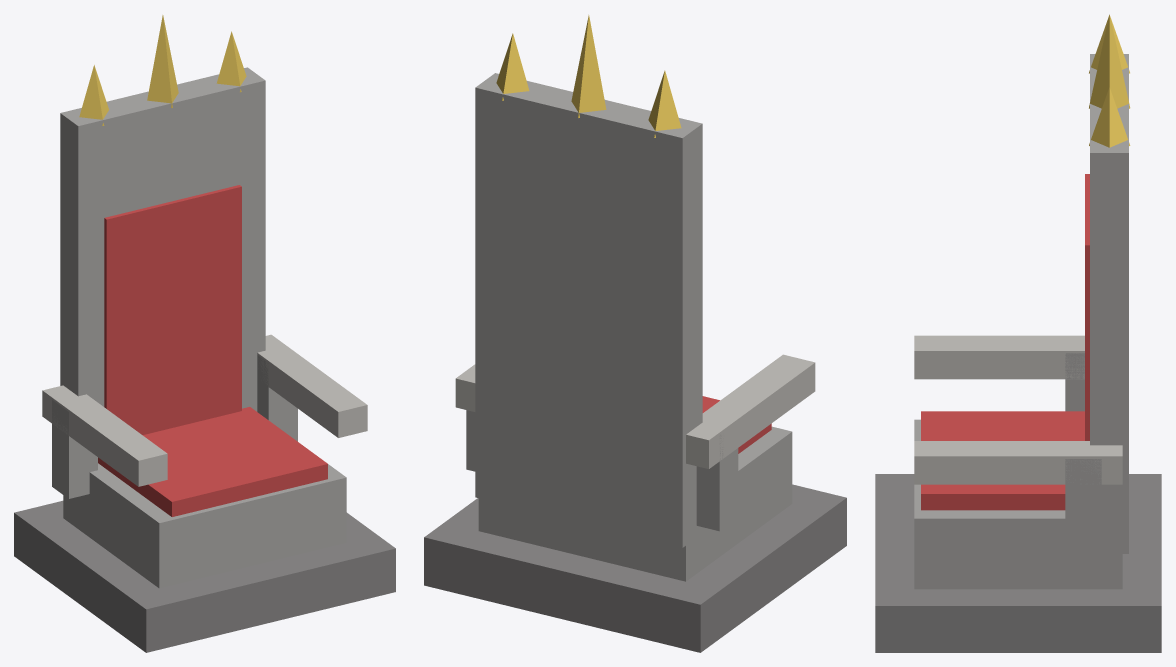
The model's file is SM_Throne.glb.
3 renders of one model, left to right at view 1: azimuth 30°, elevation 25°; view 2: azimuth 150°, elevation 25°; view 3: azimuth 270°, elevation 25°, orthographic. The views are drawn at different scales.
Visible parts, largest first — view 1: SM_Throne; view 2: SM_Throne; view 3: SM_Throne.
Part boxes in pixels (box(x1,y1,x2,y2)): SM_Throne: box(14, 15, 395, 652); SM_Throne: box(424, 15, 846, 652); SM_Throne: box(875, 14, 1161, 652).
Size of the model in its own units: 1.2 by 2.43 by 1.1.
